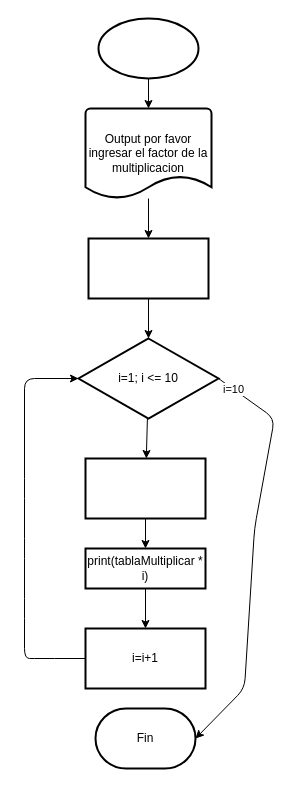
Some shapes in this 300 by 786 pixel diagram are drawn without their labels. The shapes that lost their labels are listed below. From the top down, each one's centre as x and y in pixels, then its label:
At [148,48]: "Inicio".
At [148,268]: "int tablaMultiplicar = input".
At [145,488]: "valor de i=1".
